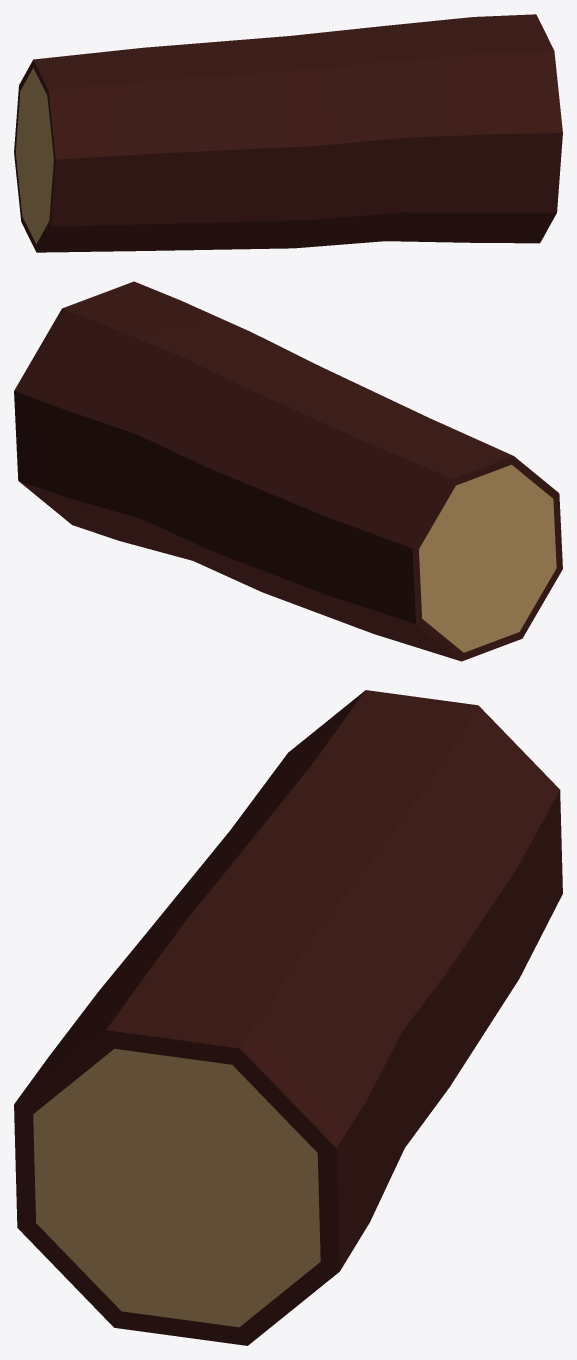
Rendered from SM_Campfire_02_Log_001.fbx.
3 renders of one model, top to bottom at view 1: azimuth 30°, elevation 25°; view 2: azimuth 150°, elevation 25°; view 3: azimuth 270°, elevation 25°, orthographic. The views are drawn at different scales.
Visible parts, largest first — view 1: CampfireLog_001; view 2: CampfireLog_001; view 3: CampfireLog_001.
Boxes of the visible parts, x1,y1,x2,y2 form: CampfireLog_001: (14,14,562,252); CampfireLog_001: (14,281,562,661); CampfireLog_001: (14,690,562,1345).
Size of the model in its own units: 29.45 by 11.45 by 18.09.
